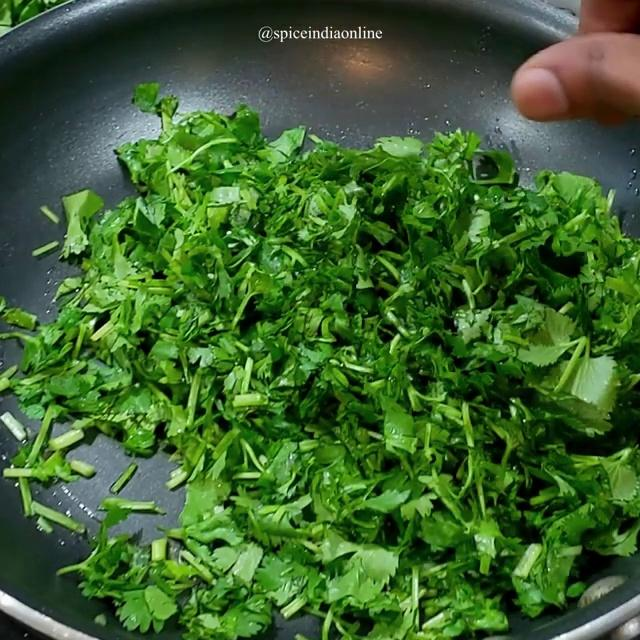cilantro: (122, 122, 580, 624)
